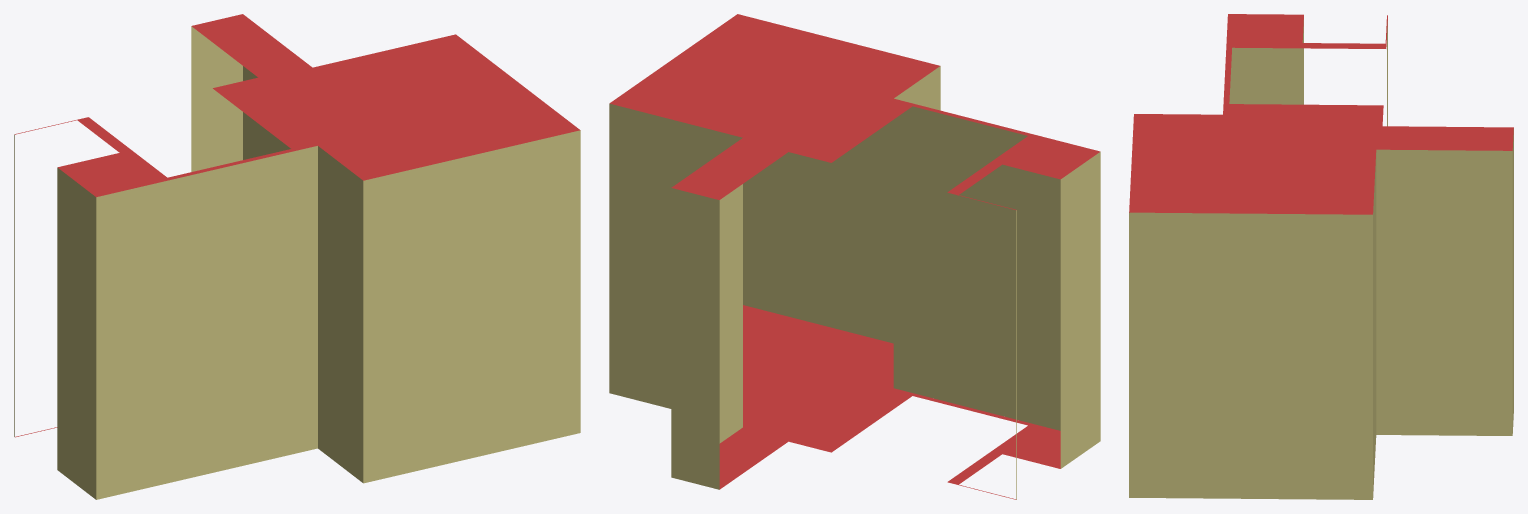
3 views of the same model, side by side, from view 1: azimuth 30°, elevation 25°; view 2: azimuth 150°, elevation 25°; view 3: azimuth 270°, elevation 25° (orthographic). The views are drawn at different scales.
Parts seen in each view (by area): view 1: group_4, group_3; view 2: group_4, group_3, group_5; view 3: group_4, group_3.
Boxes of the visible parts, x1,y1,x2,y2 form: group_4: (14, 26, 580, 499); group_3: (15, 14, 580, 197); group_4: (609, 66, 1100, 499); group_3: (609, 14, 1100, 210); group_5: (719, 305, 1060, 499); group_4: (1129, 20, 1513, 499); group_3: (1129, 14, 1513, 214).
Size of the model in its own units: 14.34 by 11.61 by 9.5.
